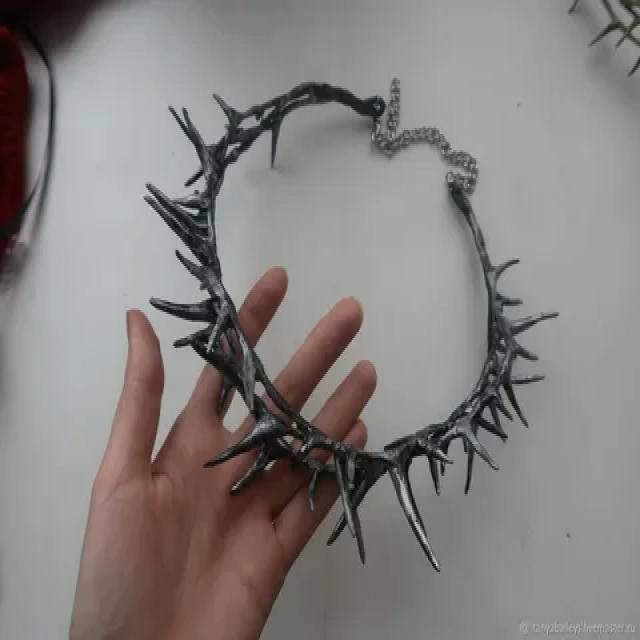crown: (152, 68, 539, 530)
